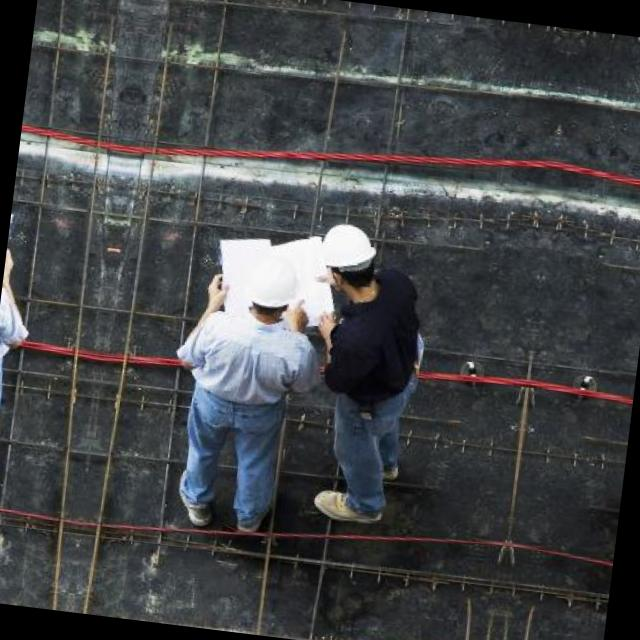helmet: (308, 210, 390, 316), (235, 239, 316, 338)
